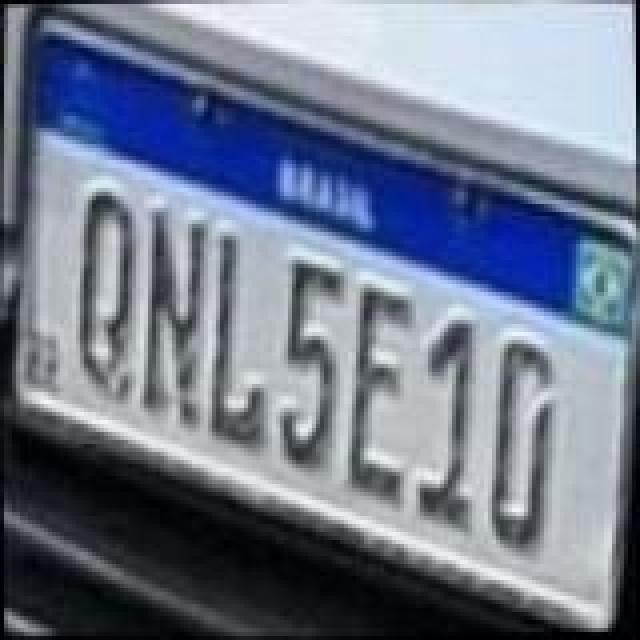1: (412, 316, 488, 540)
5: (274, 252, 350, 472)
D: (482, 328, 562, 552)
E: (342, 278, 422, 506)
L: (204, 224, 276, 448)
N: (138, 200, 214, 432)
Q: (68, 186, 140, 406)
